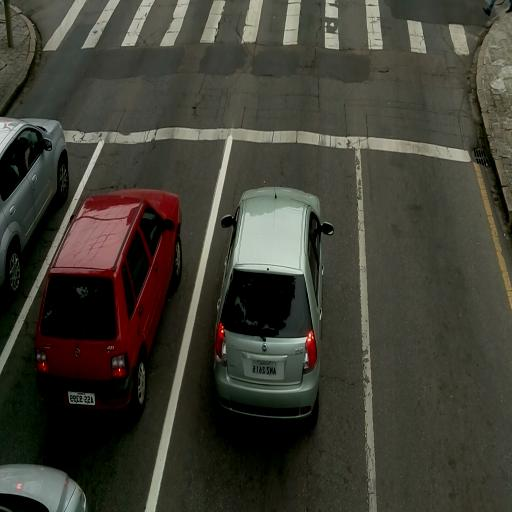car: (35, 192, 184, 418), (212, 186, 331, 422), (0, 117, 70, 299), (0, 456, 90, 512)
